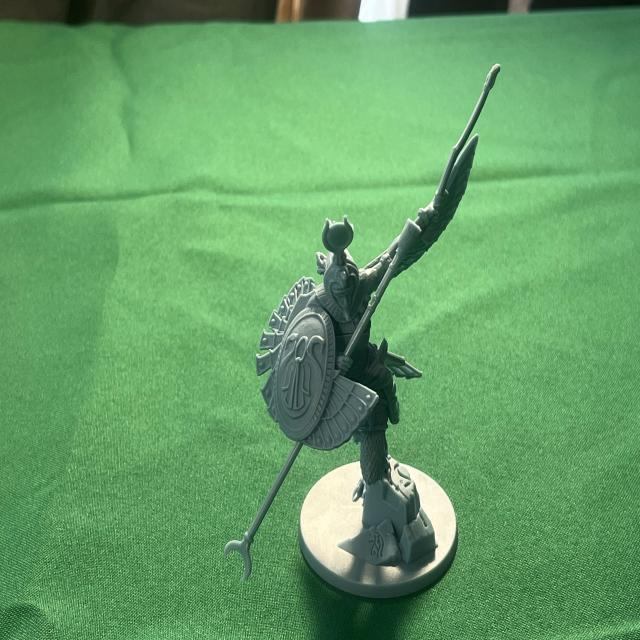isis: (221, 50, 504, 602)
